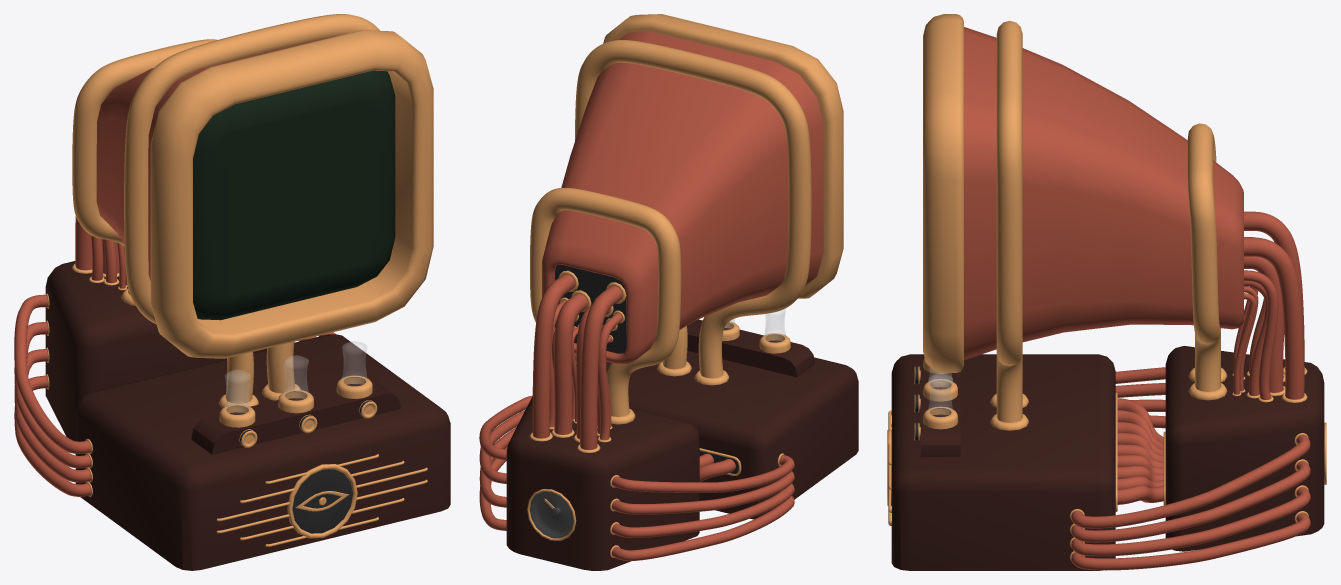
The picture shows the model from 3 angles, left to right: view 1: azimuth 30°, elevation 25°; view 2: azimuth 150°, elevation 25°; view 3: azimuth 270°, elevation 25°; orthographic projection. The views are drawn at different scales.
Visible parts, largest first — view 1: Front Panel.001, Tv box.001, Tv Support.001, Tv box 2.001, Boxes Curve.001, Control Panel.001, Monitor Panel.001, Bulb.001, Logo.001, Logo Curve.001, Pipe.001, Tv Box Curve.001; view 2: Monitor Panel.001, Tv Support.001, Tv box 2.001, Tv box.001, Boxes Curve.001, Pipe.001, Front Panel.001, Control Panel.001, Pressure Watch.001, Back Panel.001, Bulb.001, Tv Box Curve.001 (+2 smaller); view 3: Monitor Panel.001, Tv box.001, Tv box 2.001, Tv Support.001, Boxes Curve.001, Front Panel.001, Pipe.001, Cube Pipes.001, Control Panel.001, Bulb.001, Tv Box Curve.001.
Boxes of the visible parts, box(x1,y1,x2,y2) form: Front Panel.001: box(150, 30, 433, 358); Tv box.001: box(75, 334, 450, 570); Tv Support.001: box(72, 14, 380, 403); Tv box 2.001: box(45, 261, 266, 440); Boxes Curve.001: box(14, 294, 335, 496); Control Panel.001: box(191, 379, 400, 454); Monitor Panel.001: box(96, 36, 334, 280); Bulb.001: box(219, 341, 372, 427); Logo.001: box(287, 464, 357, 538); Logo Curve.001: box(216, 454, 427, 546); Pipe.001: box(75, 216, 127, 288); Tv Box Curve.001: box(121, 288, 300, 407); Monitor Panel.001: box(542, 31, 823, 364); Tv Support.001: box(530, 40, 811, 416); Tv box 2.001: box(506, 396, 699, 570); Tv box.001: box(576, 350, 858, 519); Boxes Curve.001: box(479, 395, 794, 561); Pipe.001: box(532, 274, 622, 450); Front Panel.001: box(603, 14, 843, 298); Control Panel.001: box(687, 319, 814, 377); Pressure Watch.001: box(527, 489, 576, 540); Back Panel.001: box(555, 265, 626, 353); Bulb.001: box(722, 308, 790, 353); Tv Box Curve.001: box(611, 361, 729, 424); Monitor Panel.001: box(964, 27, 1243, 359); Tv box.001: box(891, 354, 1115, 570); Tv box 2.001: box(1165, 346, 1324, 551); Tv Support.001: box(996, 20, 1220, 422); Boxes Curve.001: box(1071, 367, 1310, 570); Front Panel.001: box(923, 14, 963, 372); Pipe.001: box(1233, 211, 1304, 399); Cube Pipes.001: box(1117, 398, 1163, 504); Control Panel.001: box(920, 355, 960, 456); Bulb.001: box(923, 358, 957, 429); Tv Box Curve.001: box(990, 367, 1227, 430).
Bounding box in the file's own units: 232 × 328 × 289.
